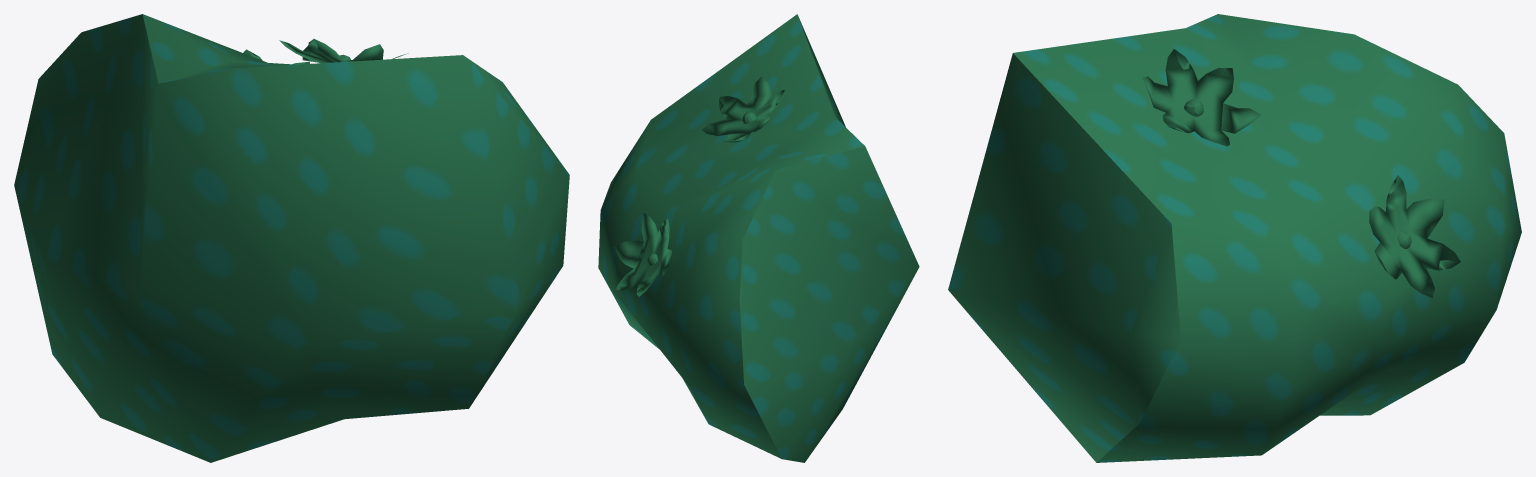
The model's file is Copa3_EXP.fbx.
3 views of the same model, side by side, from view 1: azimuth 30°, elevation 25°; view 2: azimuth 150°, elevation 25°; view 3: azimuth 270°, elevation 25° (orthographic). The views are drawn at different scales.
Visible parts, largest first — view 1: Copa_3EXP; view 2: Copa_3EXP; view 3: Copa_3EXP.
Boxes of the visible parts, box(x1,y1,x2,y2) form: Copa_3EXP: box(14, 14, 569, 462); Copa_3EXP: box(598, 14, 919, 462); Copa_3EXP: box(948, 14, 1521, 462).
Size of the model in its own units: 48.64 by 49.65 by 59.41.
Materials: 1 (1 with a texture image).
